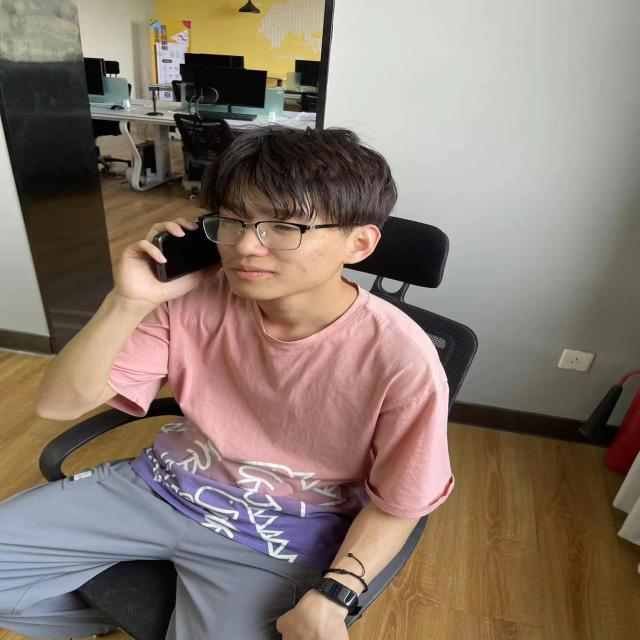phone: (150, 216, 225, 282)
